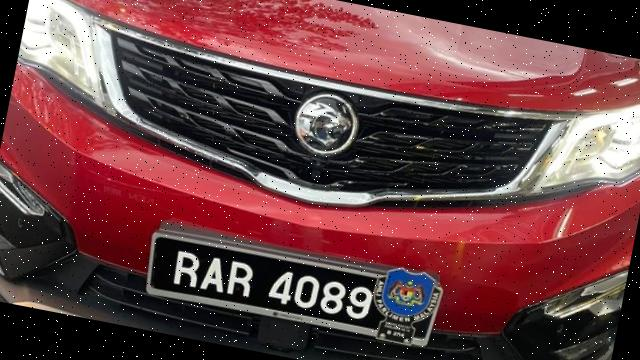License_Plate: (132, 220, 452, 360)
car: (1, 1, 640, 360)
